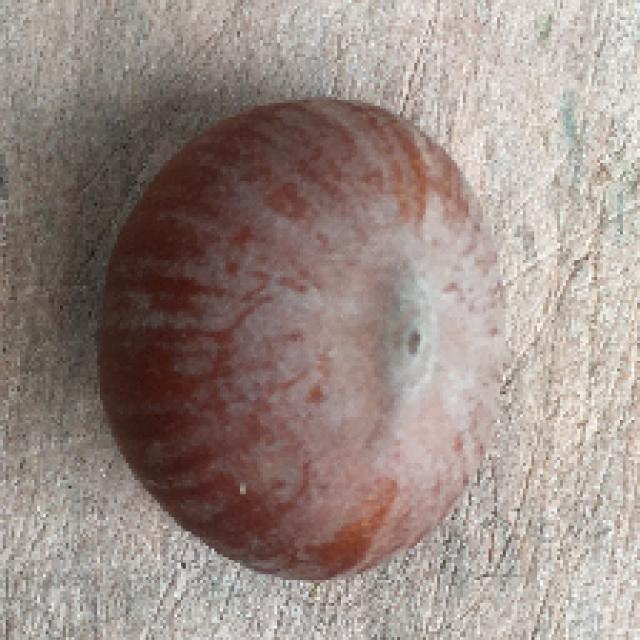qualityHazelnut: (94, 90, 511, 582)
